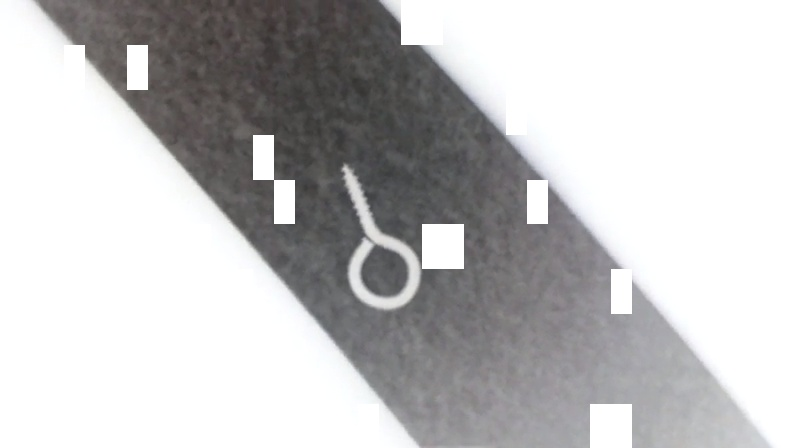O001: (338, 160, 426, 312)
